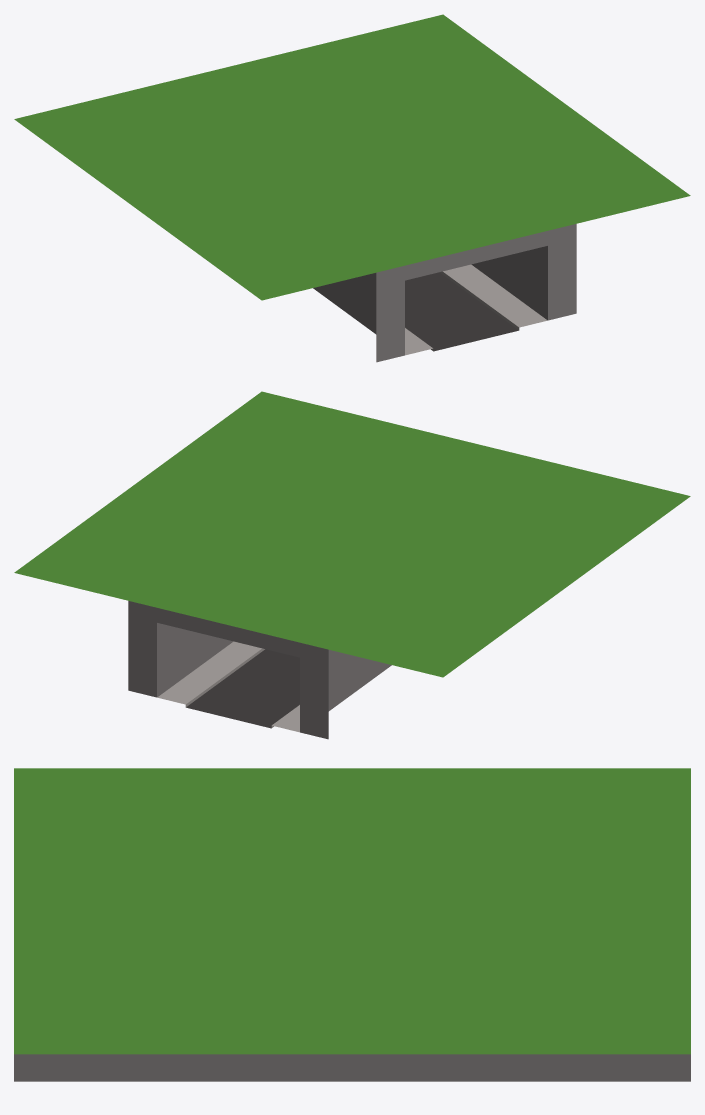
File: tiles-nb_tile-road-tunnel-nb.fbx
3 renders of one model, top to bottom at view 1: azimuth 30°, elevation 25°; view 2: azimuth 150°, elevation 25°; view 3: azimuth 270°, elevation 25°, orthographic. The views are drawn at different scales.
Visible parts, largest first — view 1: tiles_nb_tile_road_tunnel_nb; view 2: tiles_nb_tile_road_tunnel_nb; view 3: tiles_nb_tile_road_tunnel_nb.
Boxes of the visible parts, <box> form: tiles_nb_tile_road_tunnel_nb: <box>14,14,690,362</box>; tiles_nb_tile_road_tunnel_nb: <box>14,391,690,739</box>; tiles_nb_tile_road_tunnel_nb: <box>14,768,690,1081</box>.
Bounding box in the file's own units: 200 × 41.33 × 200.
